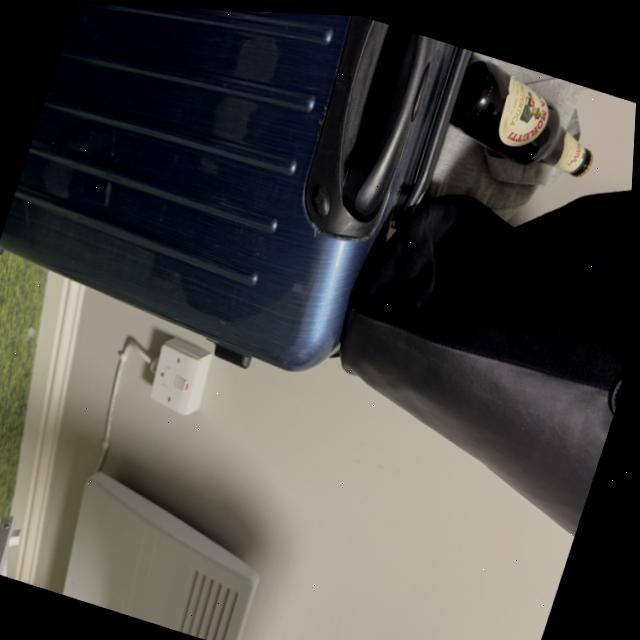beer: (434, 44, 619, 189)
